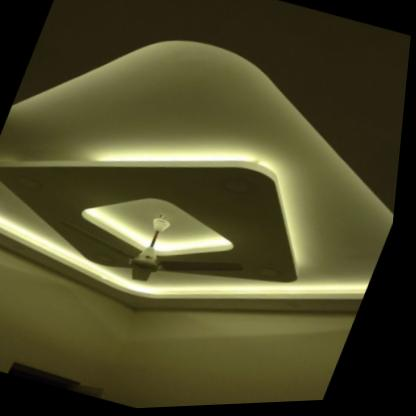Gypsum Board: (0, 0, 416, 374)
